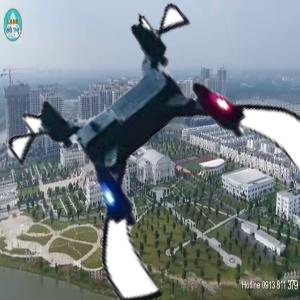drone: (36, 18, 300, 282)
